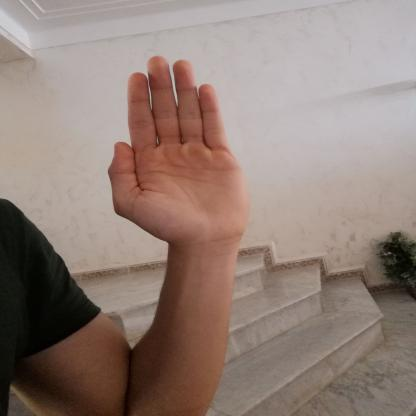SEEN: (93, 47, 261, 256)
